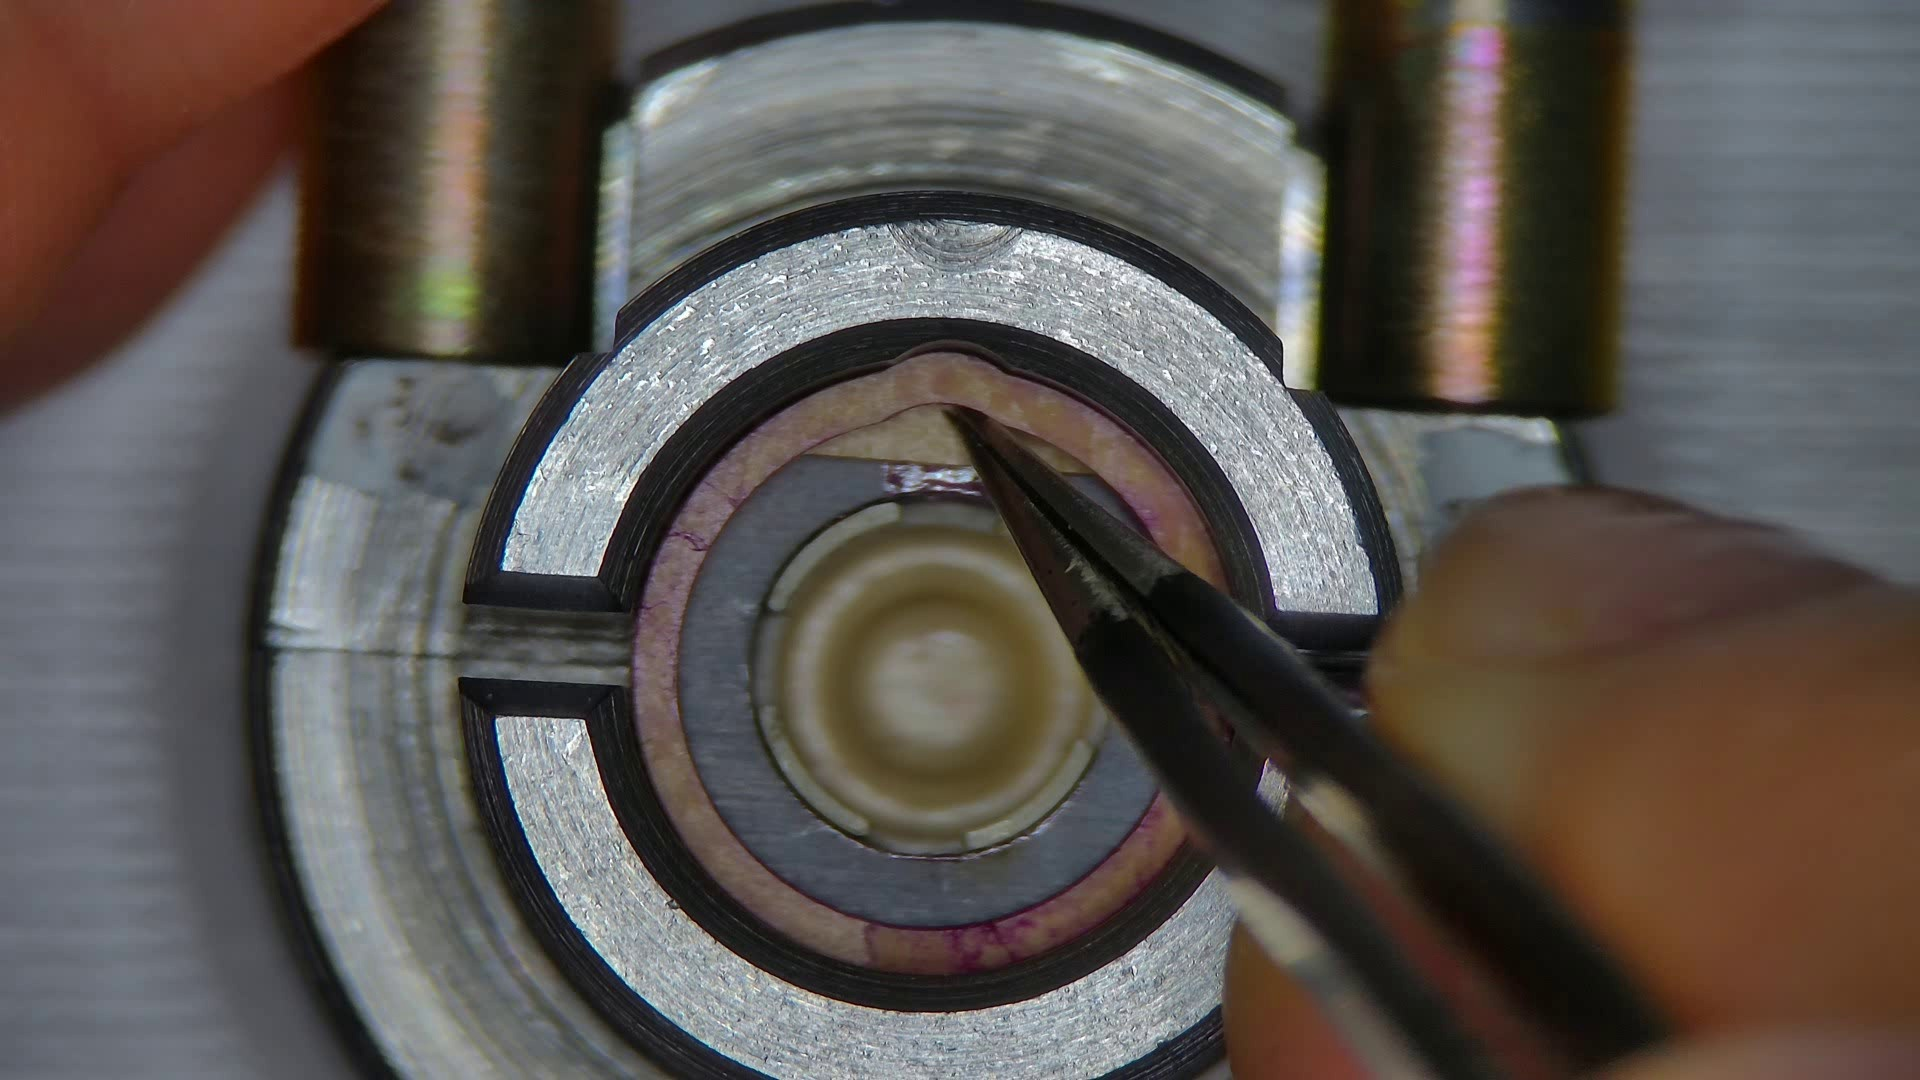GreyOring: (630, 351, 1228, 975)
YellowOring: (679, 458, 1159, 927)
redOring: (811, 404, 971, 467), (1009, 427, 1077, 473)
